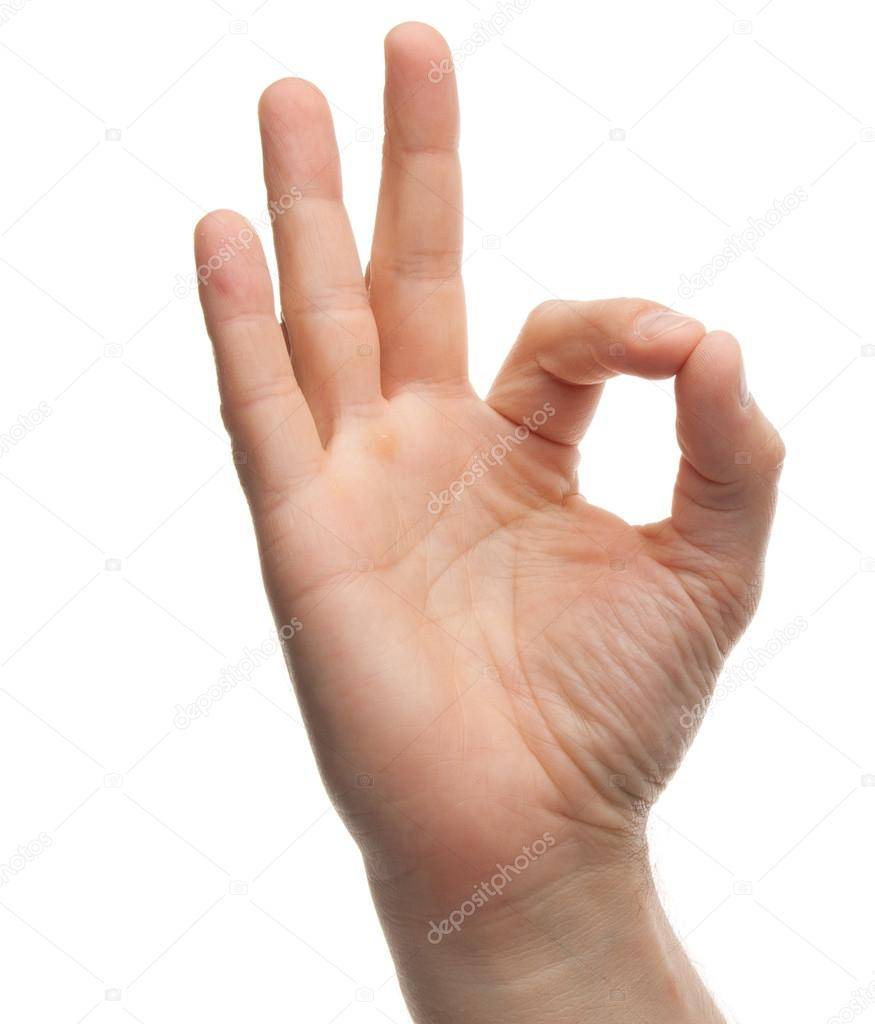oksign: (215, 42, 787, 827)
